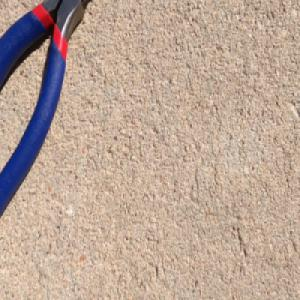Pliers: (0, 0, 97, 231)
